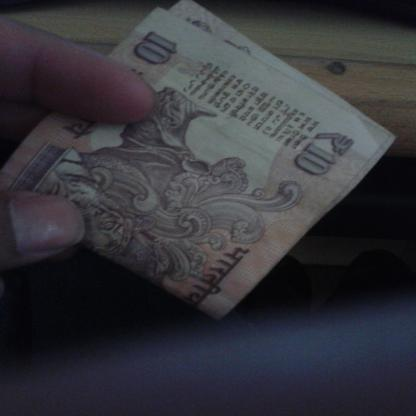Old10Back: (0, 0, 398, 322)
